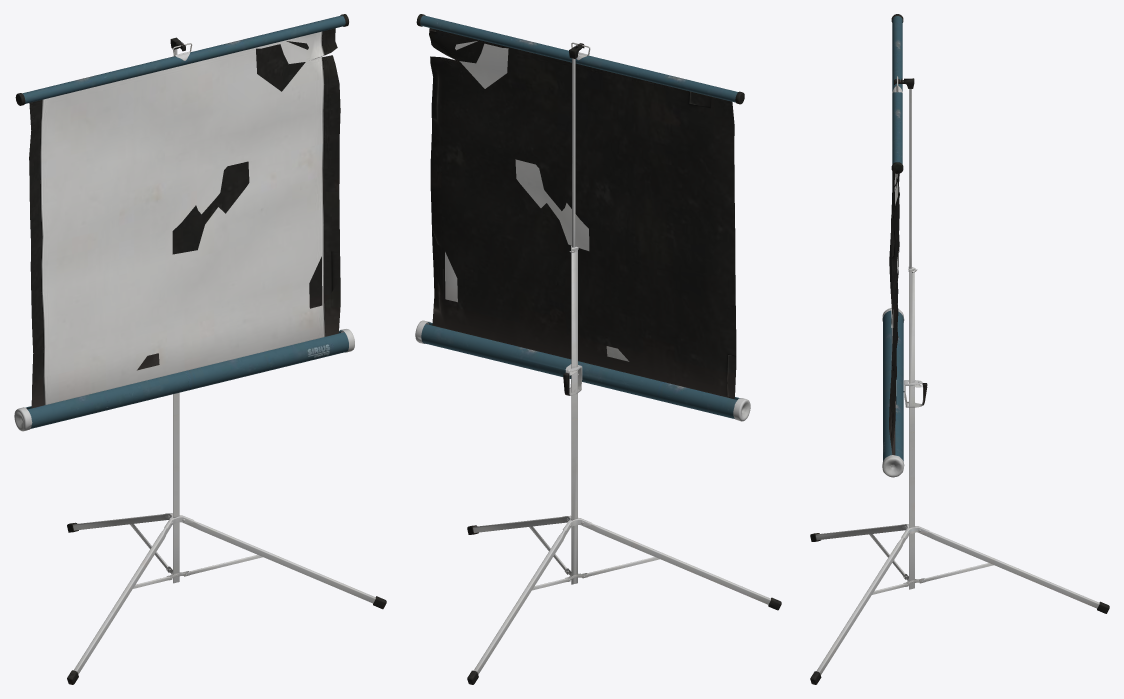
File: projector_screen.glb
3 views of the same model, side by side, from view 1: azimuth 30°, elevation 25°; view 2: azimuth 150°, elevation 25°; view 3: azimuth 270°, elevation 25° (orthographic). The views are drawn at different scales.
Parts seen in each view (by area): view 1: projector_screen; view 2: projector_screen; view 3: projector_screen.
Boxes of the visible parts, x1,y1,x2,y2 form: projector_screen: [14, 14, 386, 684]; projector_screen: [415, 14, 781, 684]; projector_screen: [810, 14, 1109, 684].
Bounding box in the file's own units: 1.09 × 1.8 × 0.9158.
2 materials, 2 textured.
